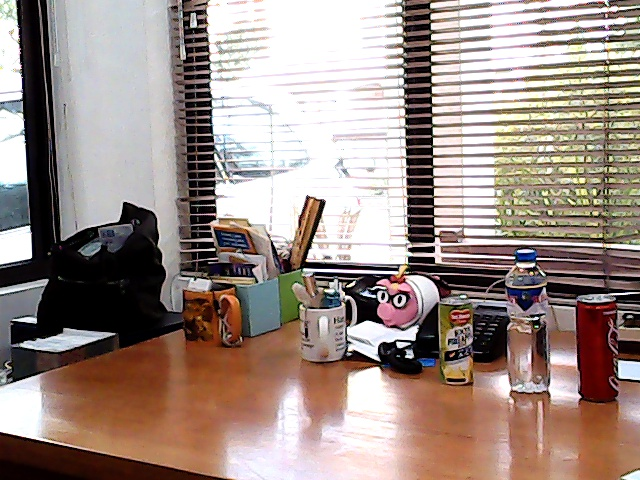Cola: (570, 284, 626, 410)
Pine Juice: (435, 290, 484, 390)
Summit Water: (502, 240, 558, 398)
